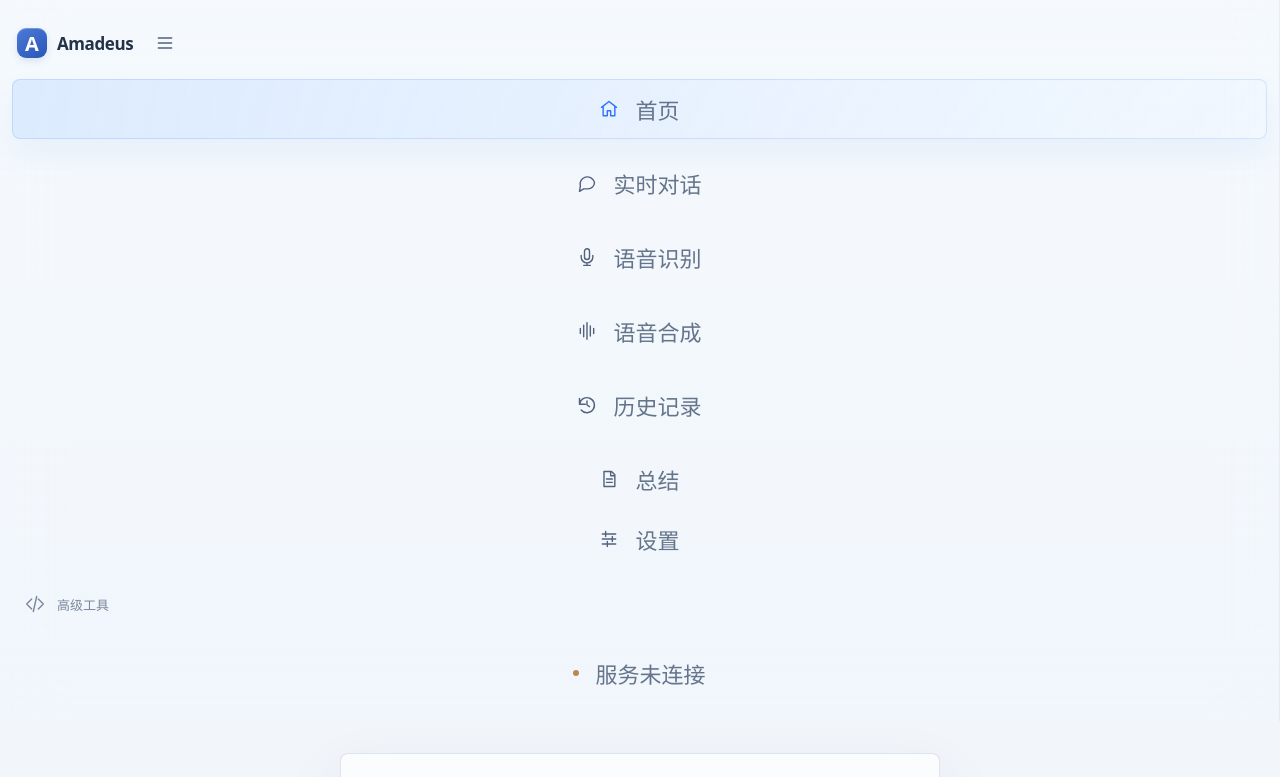
Test case: workspace shell › isolates a failed page while preserving shell navigation and retries the page
Click the button "设置": point(640, 539) x1=12 y1=509 x2=1267 y2=569
(page scrolled)
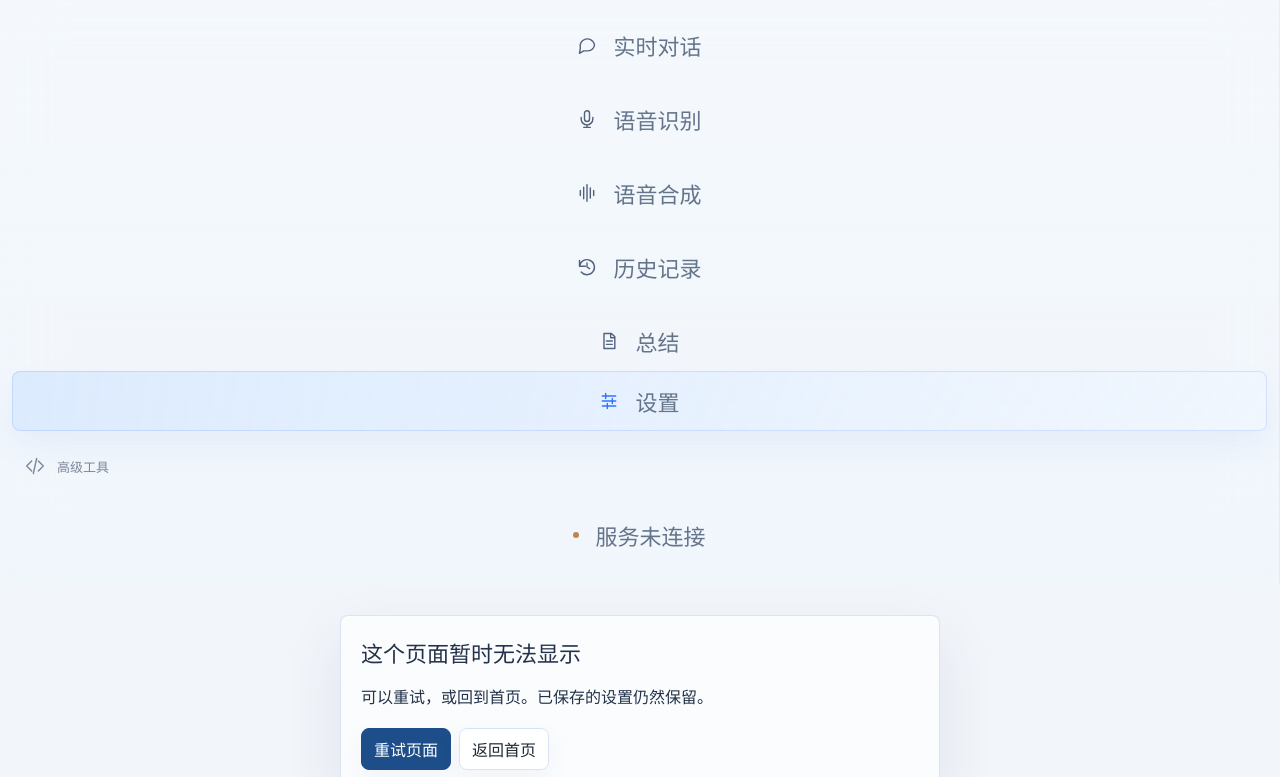
Click the button "返回首页": point(504, 749) x1=459 y1=728 x2=549 y2=770
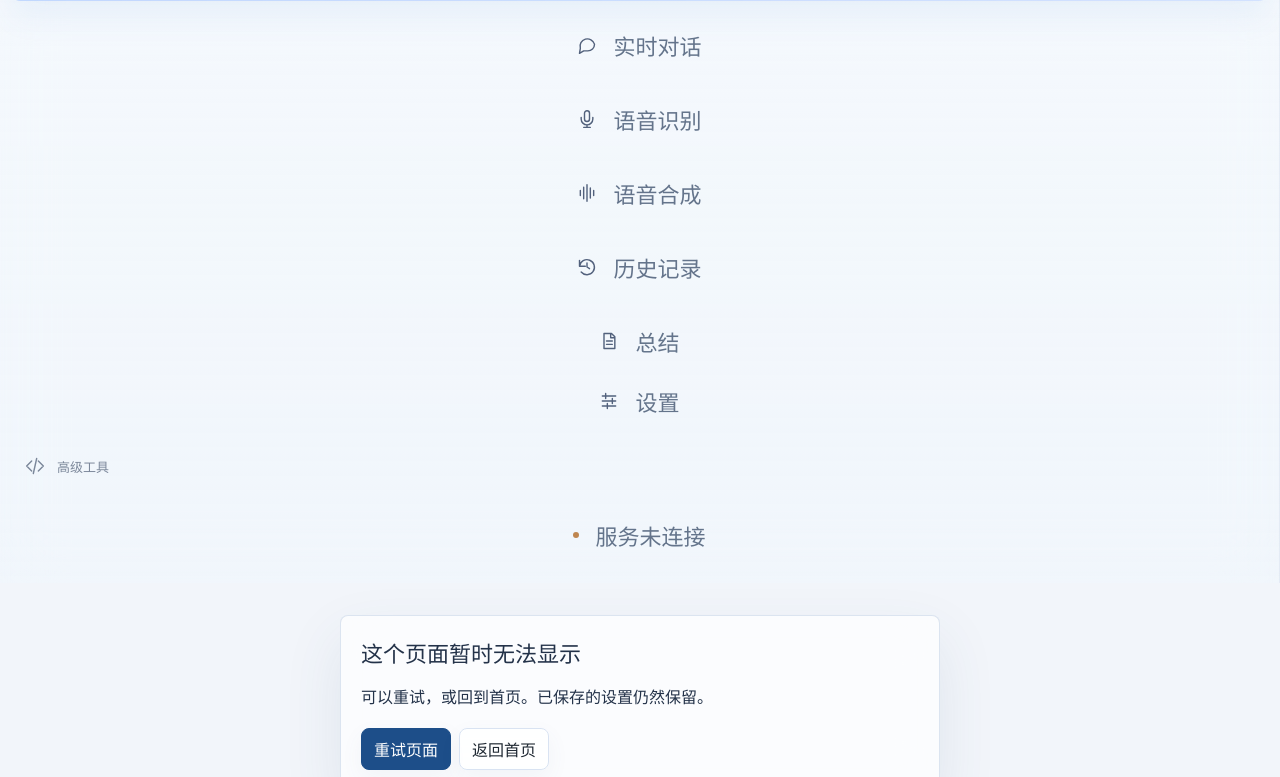
Click the button "重试页面": point(406, 749) x1=361 y1=728 x2=451 y2=770
(page scrolled)
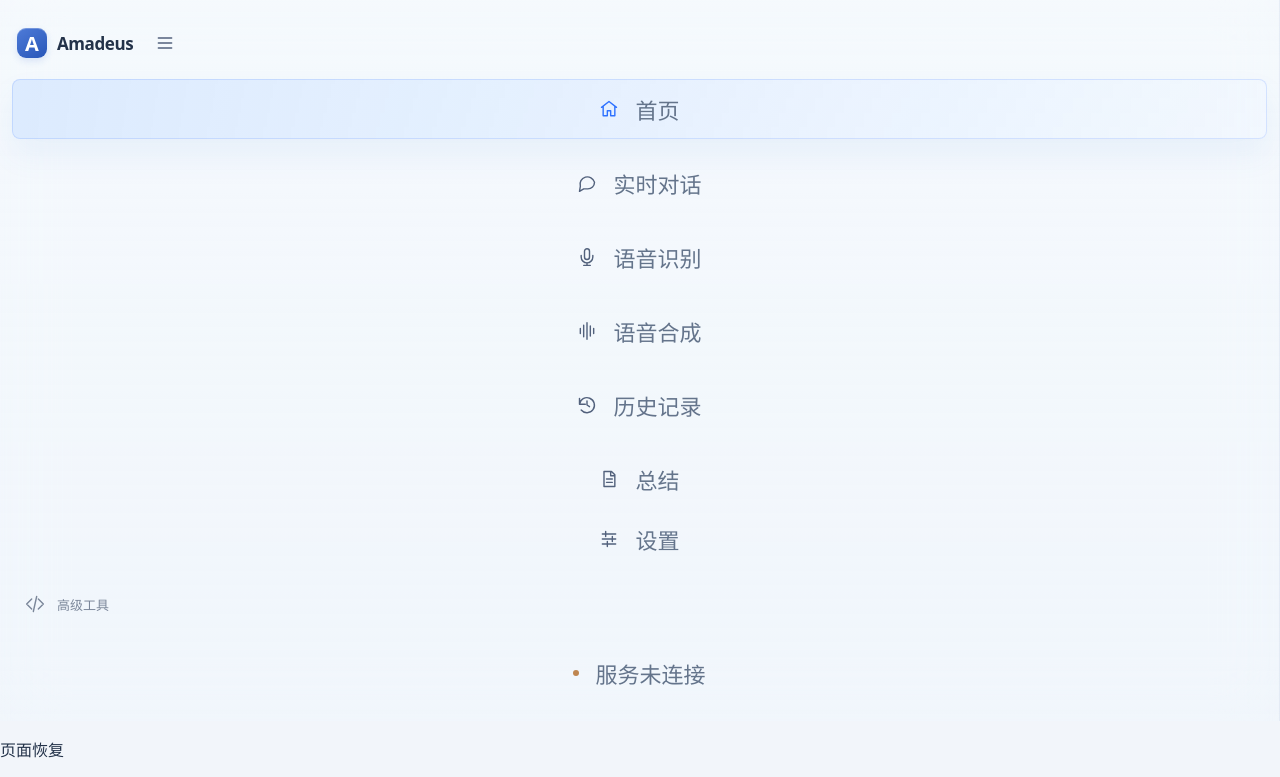
Check: the text "页面恢复" is shown, box x1=0 y1=739 x2=64 y2=761
